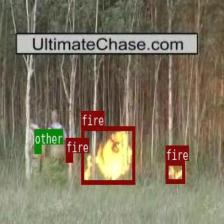fire: (80, 126, 134, 184), (165, 161, 184, 182), (65, 152, 73, 162)
